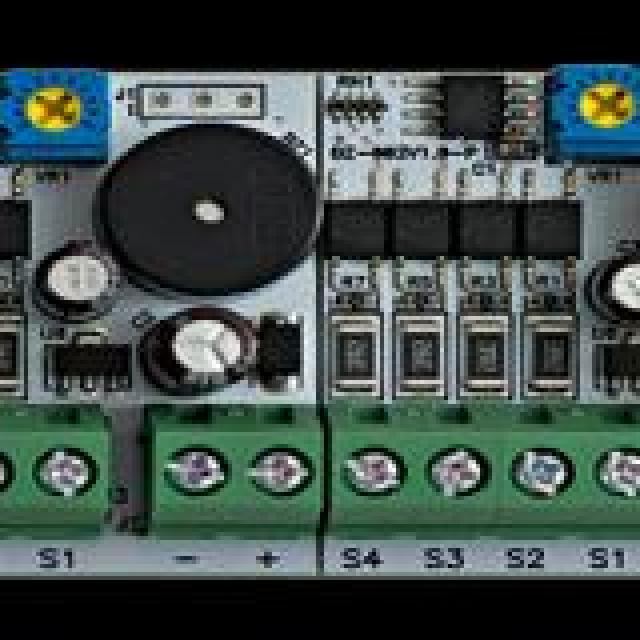IC: (420, 72, 524, 140), (516, 188, 586, 276), (388, 188, 454, 278), (320, 188, 386, 272), (456, 188, 518, 274), (52, 332, 132, 392), (0, 180, 32, 260), (596, 336, 640, 388)
buzzer: (96, 124, 324, 306), (636, 124, 640, 292)
capacitor: (136, 304, 256, 398), (32, 236, 114, 322), (592, 256, 640, 328), (496, 140, 530, 160)
connector: (320, 404, 640, 528), (148, 408, 326, 542), (0, 404, 120, 528)
diode: (256, 308, 310, 390)
potentiometer: (0, 72, 118, 162), (548, 72, 640, 160)
resistor: (400, 324, 448, 398), (336, 320, 382, 388), (460, 324, 510, 386), (528, 324, 574, 388), (328, 88, 392, 128), (400, 284, 448, 320), (528, 292, 582, 320), (0, 320, 20, 384), (460, 288, 508, 312), (340, 288, 386, 312), (0, 288, 24, 312)
